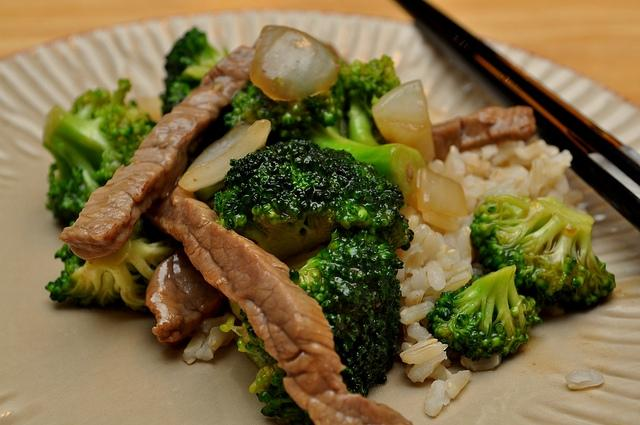broccoli: (213, 139, 414, 261), (224, 78, 426, 195), (471, 195, 616, 315), (42, 79, 152, 220), (44, 214, 184, 313), (426, 264, 542, 362), (330, 55, 400, 146), (164, 28, 223, 76)
onion: (248, 24, 339, 101), (178, 120, 271, 192), (370, 80, 436, 164), (414, 168, 468, 216), (422, 212, 460, 231)
